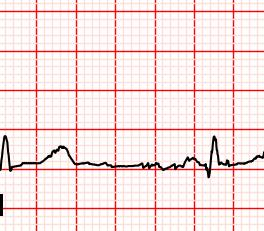Pathological Q Wave: (202, 161, 216, 179)
Poor R Progression: (205, 133, 226, 168)
